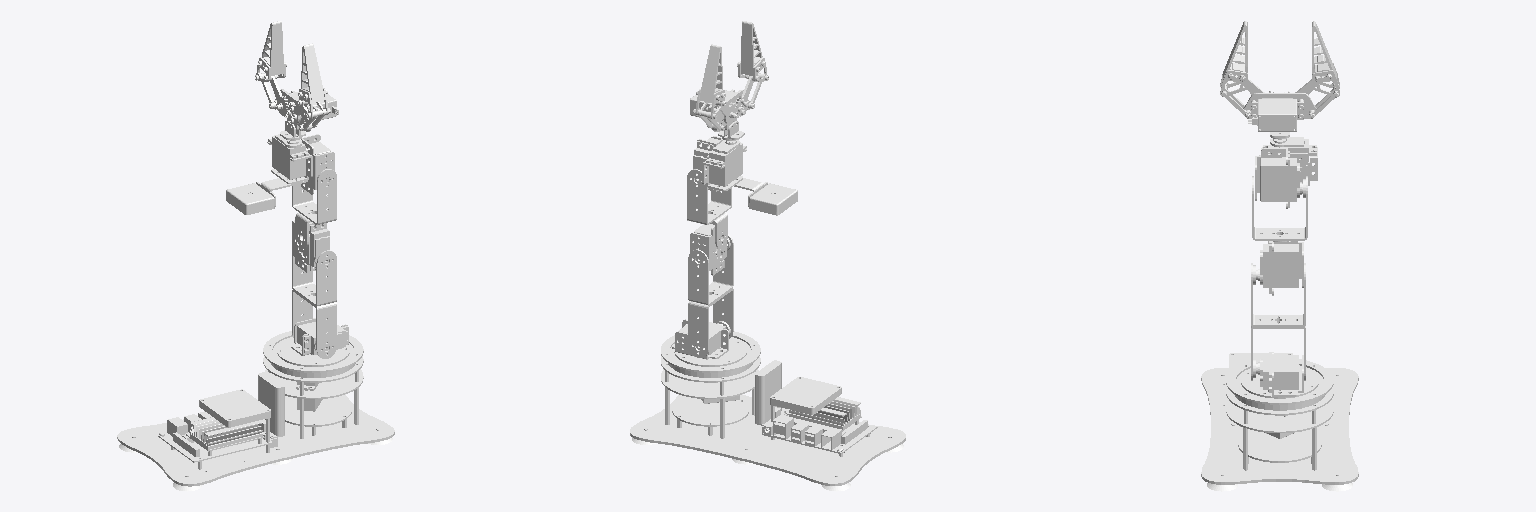
robot.urdf — table_streeing_arm:
<?xml version="1.0" encoding="utf-8" ?>
<!-- This URDF was automatically created by SolidWorks to URDF Exporter! Originally created by [author] ([email redacted]) 
     Commit Version: 1.6.0-1-g15f4949  Build Version: 1.6.7594.29634
     For more information, please see http://wiki.ros.org/sw_urdf_exporter -->
<robot name="table_streeing_arm">
    <link name="base_link">
        <inertial>
            <origin xyz="0.0097006 -0.0059776 0.025103" rpy="0 0 0" />
            <mass value="0.36024" />
            <inertia ixx="0.00067894" ixy="-7.1727E-05" ixz="-0.00020981" iyy="0.0019957" iyz="2.0787E-05" izz="0.0021275" />
        </inertial>
        <visual>
            <origin xyz="0 0 0" rpy="0 0 0" />
            <geometry>
                <mesh filename="package://table_streeing_arm/meshes/base_link.STL" />
            </geometry>
            <material name="">
                <color rgba="1 1 1 1" />
            </material>
        </visual>
        <collision>
            <origin xyz="0 0 0" rpy="0 0 0" />
            <geometry>
                <mesh filename="package://table_streeing_arm/meshes/base_link.STL" />
            </geometry>
        </collision>
    </link>
    <link name="link_1">
        <inertial>
            <origin xyz="0.0066789 0.00061793 0.0064455" rpy="0 0 0" />
            <mass value="0.05865" />
            <inertia ixx="2.1409E-05" ixy="-2.9508E-07" ixz="-2.7202E-06" iyy="2.3067E-05" iyz="-2.9756E-08" izz="2.9134E-05" />
        </inertial>
        <visual>
            <origin xyz="0 0 0" rpy="0 0 0" />
            <geometry>
                <mesh filename="package://table_streeing_arm/meshes/link_1.STL" />
            </geometry>
            <material name="">
                <color rgba="1 1 1 1" />
            </material>
        </visual>
        <collision>
            <origin xyz="0 0 0" rpy="0 0 0" />
            <geometry>
                <mesh filename="package://table_streeing_arm/meshes/link_1.STL" />
            </geometry>
        </collision>
    </link>
    <joint name="joint_1" type="revolute">
        <origin xyz="0.072548 -3.1954E-05 0.083" rpy="0 0 0" />
        <parent link="base_link" />
        <child link="link_1" />
        <axis xyz="0 0 -1" />
        <limit lower="-1.57" upper="1.57" effort="100" velocity="3" />
    </joint>
    <link name="link_2">
        <inertial>
            <origin xyz="4.0473E-16 0.024507 0.0525" rpy="0 0 0" />
            <mass value="0.018296" />
            <inertia ixx="3.0233E-05" ixy="1.4958E-20" ixz="-1.7717E-19" iyy="2.0571E-05" iyz="-1.1753E-19" izz="1.1505E-05" />
        </inertial>
        <visual>
            <origin xyz="0 0 0" rpy="0 0 0" />
            <geometry>
                <mesh filename="package://table_streeing_arm/meshes/link_2.STL" />
            </geometry>
            <material name="">
                <color rgba="1 1 1 1" />
            </material>
        </visual>
        <collision>
            <origin xyz="0 0 0" rpy="0 0 0" />
            <geometry>
                <mesh filename="package://table_streeing_arm/meshes/link_2.STL" />
            </geometry>
        </collision>
    </link>
    <joint name="joint_2" type="revolute">
        <origin xyz="0.0005 -0.0285 0.0145" rpy="0 0 0" />
        <parent link="link_1" />
        <child link="link_2" />
        <axis xyz="0 -1 0" />
        <limit lower="-1.57" upper="1.57" effort="100" velocity="3" />
    </joint>
    <link name="link_3">
        <inertial>
            <origin xyz="-0.001124 0.029687 0.022151" rpy="0 0 0" />
            <mass value="0.049761" />
            <inertia ixx="4.8731E-05" ixy="1.7297E-07" ixz="-7.7563E-07" iyy="4.0019E-05" iyz="-1.4349E-06" izz="1.3659E-05" />
        </inertial>
        <visual>
            <origin xyz="0 0 0" rpy="0 0 0" />
            <geometry>
                <mesh filename="package://table_streeing_arm/meshes/link_3.STL" />
            </geometry>
            <material name="">
                <color rgba="1 1 1 1" />
            </material>
        </visual>
        <collision>
            <origin xyz="0 0 0" rpy="0 0 0" />
            <geometry>
                <mesh filename="package://table_streeing_arm/meshes/link_3.STL" />
            </geometry>
        </collision>
    </link>
    <joint name="joint_3" type="revolute">
        <origin xyz="0 0 0.105" rpy="0 0 0" />
        <parent link="link_2" />
        <child link="link_3" />
        <axis xyz="0 -1 0" />
        <limit lower="-1.57" upper="1.57" effort="100" velocity="3" />
    </joint>
    <link name="link_4">
        <inertial>
            <origin xyz="-0.023971 0.030448 0.0096738" rpy="0 0 0" />
            <mass value="0.091895" />
            <inertia ixx="4.2063E-05" ixy="1.7444E-06" ixz="-1.9067E-05" iyy="9.3754E-05" iyz="-3.3549E-06" izz="8.5724E-05" />
        </inertial>
        <visual>
            <origin xyz="0 0 0" rpy="0 0 0" />
            <geometry>
                <mesh filename="package://table_streeing_arm/meshes/link_4.STL" />
            </geometry>
            <material name="">
                <color rgba="1 1 1 1" />
            </material>
        </visual>
        <collision>
            <origin xyz="0 0 0" rpy="0 0 0" />
            <geometry>
                <mesh filename="package://table_streeing_arm/meshes/link_4.STL" />
            </geometry>
        </collision>
    </link>
    <joint name="joint_4" type="revolute">
        <origin xyz="0.001 0.0015 0.0975" rpy="0 0 0" />
        <parent link="link_3" />
        <child link="link_4" />
        <axis xyz="0 -1 0" />
        <limit lower="-1.57" upper="1.0" effort="100" velocity="3" />
    </joint>
    <link name="link_5">
        <inertial>
            <origin xyz="0.017024 -0.0018442 0.03644" rpy="0 0 0" />
            <mass value="0.043121" />
            <inertia ixx="1.2402E-05" ixy="7.0394E-07" ixz="-1.6181E-06" iyy="1.1921E-05" iyz="1.7177E-07" izz="1.7218E-05" />
        </inertial>
        <visual>
            <origin xyz="0 0 0" rpy="0 0 0" />
            <geometry>
                <mesh filename="package://table_streeing_arm/meshes/link_5.STL" />
            </geometry>
            <material name="">
                <color rgba="1 1 1 1" />
            </material>
        </visual>
        <collision>
            <origin xyz="0 0 0" rpy="0 0 0" />
            <geometry>
                <mesh filename="package://table_streeing_arm/meshes/link_5.STL" />
            </geometry>
        </collision>
    </link>
    <joint name="joint_5" type="revolute">
        <origin xyz="-0.027 0.027 0.042" rpy="0 0 0" />
        <parent link="link_4" />
        <child link="link_5" />
        <axis xyz="0 0 -1" />
        <limit lower="-1.57" upper="1.57" effort="100" velocity="3" />
    </joint>
    <link name="link_6">
        <inertial>
            <origin xyz="0.0025 0.0056473 0.006408" rpy="0 0 0" />
            <mass value="0.001976" />
            <inertia ixx="3.9985E-07" ixy="-6.0525E-21" ixz="-8.2462E-21" iyy="1.9537E-07" iyz="-1.5175E-07" izz="2.0744E-07" />
        </inertial>
        <visual>
            <origin xyz="0 0 0" rpy="0 0 0" />
            <geometry>
                <mesh filename="package://table_streeing_arm/meshes/link_6.STL" />
            </geometry>
            <material name="">
                <color rgba="1 1 1 1" />
            </material>
        </visual>
        <collision>
            <origin xyz="0 0 0" rpy="0 0 0" />
            <geometry>
                <mesh filename="package://table_streeing_arm/meshes/link_6.STL" />
            </geometry>
        </collision>
    </link>
    <joint name="joint_6" type="revolute">
        <origin xyz="-0.0085 0.0125 0.0386" rpy="0 0 0" />
        <parent link="link_5" />
        <child link="link_6" />
        <axis xyz="-1 0 0" />
        <limit lower="-0.9" upper="0.9" effort="100" velocity="3" />
    </joint>
    <link name="link_10">
        <inertial>
            <origin xyz="0.011605 0.0059668 0.02039" rpy="0 0 0" />
            <mass value="0.0097376" />
            <inertia ixx="4.1487E-06" ixy="-1.9122E-08" ixz="-5.1925E-09" iyy="3.9123E-06" iyz="7.1057E-07" izz="1.0119E-06" />
        </inertial>
        <visual>
            <origin xyz="0 0 0" rpy="0 0 0" />
            <geometry>
                <mesh filename="package://table_streeing_arm/meshes/link_10.STL" />
            </geometry>
            <material name="">
                <color rgba="1 1 1 1" />
            </material>
        </visual>
        <collision>
            <origin xyz="0 0 0" rpy="0 0 0" />
            <geometry>
                <mesh filename="package://table_streeing_arm/meshes/link_10.STL" />
            </geometry>
        </collision>
    </link>
    <joint name="joint_10" type="revolute">
        <origin xyz="-0.0043 0.024471 0.025023" rpy="0 0 0" />
        <parent link="link_6" />
        <child link="link_10" />
        <axis xyz="-1 0 0" />
        <limit lower="-0.9" upper="0.9" effort="100" velocity="3" />
    </joint>
    <link name="link_7">
        <inertial>
            <origin xyz="0.00073507 -0.0036936 0.0043613" rpy="0 0 0" />
            <mass value="0.0029711" />
            <inertia ixx="4.9451E-07" ixy="-8.0667E-09" ixz="9.525E-09" iyy="2.6231E-07" iyz="1.738E-07" izz="2.5861E-07" />
        </inertial>
        <visual>
            <origin xyz="0 0 0" rpy="0 0 0" />
            <geometry>
                <mesh filename="package://table_streeing_arm/meshes/link_7.STL" />
            </geometry>
            <material name="">
                <color rgba="1 1 1 1" />
            </material>
        </visual>
        <collision>
            <origin xyz="0 0 0" rpy="0 0 0" />
            <geometry>
                <mesh filename="package://table_streeing_arm/meshes/link_7.STL" />
            </geometry>
        </collision>
    </link>
    <joint name="joint_7" type="revolute">
        <origin xyz="-0.006 -0.0125 0.0386" rpy="0 0 0" />
        <parent link="link_5" />
        <child link="link_7" />
        <axis xyz="1 0 0" />
        <limit lower="-0.9" upper="0.9" effort="100" velocity="3" />
    </joint>
    <link name="link_11">
        <inertial>
            <origin xyz="0.011605 -0.0064719 0.020479" rpy="0 0 0" />
            <mass value="0.0097376" />
            <inertia ixx="4.1448E-06" ixy="1.8986E-08" ixz="-5.1676E-09" iyy="3.9269E-06" iyz="-6.7081E-07" izz="9.935E-07" />
        </inertial>
        <visual>
            <origin xyz="0 0 0" rpy="0 0 0" />
            <geometry>
                <mesh filename="package://table_streeing_arm/meshes/link_11.STL" />
            </geometry>
            <material name="">
                <color rgba="1 1 1 1" />
            </material>
        </visual>
        <collision>
            <origin xyz="0 0 0" rpy="0 0 0" />
            <geometry>
                <mesh filename="package://table_streeing_arm/meshes/link_11.STL" />
            </geometry>
        </collision>
    </link>
    <joint name="joint_11" type="revolute">
        <origin xyz="-0.0068 -0.024099 0.025382" rpy="0 0 0" />
        <parent link="link_7" />
        <child link="link_11" />
        <axis xyz="-1 0 0" />
        <limit lower="-0.9" upper="0.9" effort="100" velocity="3" />
    </joint>
    <link name="link_8">
        <inertial>
            <origin xyz="0.0083 0.012951 0.011812" rpy="0 0 0" />
            <mass value="0.0010878" />
            <inertia ixx="1.7192E-07" ixy="-2.6483E-16" ixz="-2.7081E-16" iyy="1.2153E-07" iyz="-8.3002E-08" izz="1.1783E-07" />
        </inertial>
        <visual>
            <origin xyz="0 0 0" rpy="0 0 0" />
            <geometry>
                <mesh filename="package://table_streeing_arm/meshes/link_8.STL" />
            </geometry>
            <material name="">
                <color rgba="1 1 1 1" />
            </material>
        </visual>
        <collision>
            <origin xyz="0 0 0" rpy="0 0 0" />
            <geometry>
                <mesh filename="package://table_streeing_arm/meshes/link_8.STL" />
            </geometry>
        </collision>
    </link>
    <joint name="joint_8" type="revolute">
        <origin xyz="-0.0088 0.032703 0.031247" rpy="0 0 0" />
        <parent link="link_5" />
        <child link="link_8" />
        <axis xyz="-1 0 0" />
        <limit lower="-0.9" upper="0.9" effort="100" velocity="3" />
    </joint>
    <link name="link_9">
        <inertial>
            <origin xyz="0.0083 -0.012775 0.012002" rpy="0 0 0" />
            <mass value="0.0010878" />
            <inertia ixx="1.7192E-07" ixy="1.5085E-21" ixz="-6.9214E-21" iyy="1.2398E-07" iyz="8.2911E-08" izz="1.1538E-07" />
        </inertial>
        <visual>
            <origin xyz="0 0 0" rpy="0 0 0" />
            <geometry>
                <mesh filename="package://table_streeing_arm/meshes/link_9.STL" />
            </geometry>
            <material name="">
                <color rgba="1 1 1 1" />
            </material>
        </visual>
        <collision>
            <origin xyz="0 0 0" rpy="0 0 0" />
            <geometry>
                <mesh filename="package://table_streeing_arm/meshes/link_9.STL" />
            </geometry>
        </collision>
    </link>
    <joint name="joint_9" type="revolute">
        <origin xyz="-0.0088 -0.032703 0.031247" rpy="0 0 0" />
        <parent link="link_5" />
        <child link="link_9" />
        <axis xyz="-1 0 0" />
        <limit lower="-0.9" upper="0.9" effort="100" velocity="3" />
    </joint>
    <transmission name="trans_joint_1">
        <type>transmission_interface/SimpleTransmission</type>
        <joint name="joint_1">
            <hardwareInterface>hardware_interface/EffortJointInterface</hardwareInterface>
        </joint>
        <actuator name="joint_1_motor">
            <hardwareInterface>hardware_interface/EffortJointInterface</hardwareInterface>
            <mechanicalReduction>1</mechanicalReduction>
        </actuator>
    </transmission>
    <transmission name="trans_joint_2">
        <type>transmission_interface/SimpleTransmission</type>
        <joint name="joint_2">
            <hardwareInterface>hardware_interface/EffortJointInterface</hardwareInterface>
        </joint>
        <actuator name="joint_2_motor">
            <hardwareInterface>hardware_interface/EffortJointInterface</hardwareInterface>
            <mechanicalReduction>1</mechanicalReduction>
        </actuator>
    </transmission>
    <transmission name="trans_joint_3">
        <type>transmission_interface/SimpleTransmission</type>
        <joint name="joint_3">
            <hardwareInterface>hardware_interface/EffortJointInterface</hardwareInterface>
        </joint>
        <actuator name="joint_3_motor">
            <hardwareInterface>hardware_interface/EffortJointInterface</hardwareInterface>
            <mechanicalReduction>1</mechanicalReduction>
        </actuator>
    </transmission>
    <transmission name="trans_joint_4">
        <type>transmission_interface/SimpleTransmission</type>
        <joint name="joint_4">
            <hardwareInterface>hardware_interface/EffortJointInterface</hardwareInterface>
        </joint>
        <actuator name="joint_4_motor">
            <hardwareInterface>hardware_interface/EffortJointInterface</hardwareInterface>
            <mechanicalReduction>1</mechanicalReduction>
        </actuator>
    </transmission>
    <transmission name="trans_joint_5">
        <type>transmission_interface/SimpleTransmission</type>
        <joint name="joint_5">
            <hardwareInterface>hardware_interface/EffortJointInterface</hardwareInterface>
        </joint>
        <actuator name="joint_5_motor">
            <hardwareInterface>hardware_interface/EffortJointInterface</hardwareInterface>
            <mechanicalReduction>1</mechanicalReduction>
        </actuator>
    </transmission>
    <transmission name="trans_joint_6">
        <type>transmission_interface/SimpleTransmission</type>
        <joint name="joint_6">
            <hardwareInterface>hardware_interface/EffortJointInterface</hardwareInterface>
        </joint>
        <actuator name="joint_6_motor">
            <hardwareInterface>hardware_interface/EffortJointInterface</hardwareInterface>
            <mechanicalReduction>1</mechanicalReduction>
        </actuator>
    </transmission>
    <transmission name="trans_joint_10">
        <type>transmission_interface/SimpleTransmission</type>
        <joint name="joint_10">
            <hardwareInterface>hardware_interface/EffortJointInterface</hardwareInterface>
        </joint>
        <actuator name="joint_10_motor">
            <hardwareInterface>hardware_interface/EffortJointInterface</hardwareInterface>
            <mechanicalReduction>1</mechanicalReduction>
        </actuator>
    </transmission>
    <transmission name="trans_joint_7">
        <type>transmission_interface/SimpleTransmission</type>
        <joint name="joint_7">
            <hardwareInterface>hardware_interface/EffortJointInterface</hardwareInterface>
        </joint>
        <actuator name="joint_7_motor">
            <hardwareInterface>hardware_interface/EffortJointInterface</hardwareInterface>
            <mechanicalReduction>1</mechanicalReduction>
        </actuator>
    </transmission>
    <transmission name="trans_joint_11">
        <type>transmission_interface/SimpleTransmission</type>
        <joint name="joint_11">
            <hardwareInterface>hardware_interface/EffortJointInterface</hardwareInterface>
        </joint>
        <actuator name="joint_11_motor">
            <hardwareInterface>hardware_interface/EffortJointInterface</hardwareInterface>
            <mechanicalReduction>1</mechanicalReduction>
        </actuator>
    </transmission>
    <transmission name="trans_joint_8">
        <type>transmission_interface/SimpleTransmission</type>
        <joint name="joint_8">
            <hardwareInterface>hardware_interface/EffortJointInterface</hardwareInterface>
        </joint>
        <actuator name="joint_8_motor">
            <hardwareInterface>hardware_interface/EffortJointInterface</hardwareInterface>
            <mechanicalReduction>1</mechanicalReduction>
        </actuator>
    </transmission>
    <transmission name="trans_joint_9">
        <type>transmission_interface/SimpleTransmission</type>
        <joint name="joint_9">
            <hardwareInterface>hardware_interface/EffortJointInterface</hardwareInterface>
        </joint>
        <actuator name="joint_9_motor">
            <hardwareInterface>hardware_interface/EffortJointInterface</hardwareInterface>
            <mechanicalReduction>1</mechanicalReduction>
        </actuator>
    </transmission>
    <gazebo>
        <plugin name="gazebo_ros_control">
            <robotNamespace>/</robotNamespace>
        </plugin>
    </gazebo>
</robot>

--- Render facts (derived) ---
3 views of the same robot in one strip: view 1: azimuth 30°, elevation 25°; view 2: azimuth 150°, elevation 25°; view 3: azimuth 270°, elevation 25° (orthographic).
Model table_streeing_arm with 12 links and 11 joints (11 revolute), rooted at base_link, posed all joints at 0.
Visible links, largest first — view 1: base_link, link_4, link_2, link_3, link_1, link_11, link_10, link_5; view 2: base_link, link_4, link_2, link_3, link_1, link_10, link_11, link_5; view 3: base_link, link_4, link_3, link_1, link_5, link_2, link_11, link_10.
Boxes of the visible links, x1,y1,x2,y2 form: base_link: (117,331,394,491); link_4: (226,134,334,214); link_2: (292,250,336,358); link_3: (292,169,336,272); link_1: (277,318,349,366); link_11: (297,43,330,118); link_10: (255,21,286,81); link_5: (269,89,338,140); base_link: (630,331,905,491); link_4: (693,136,797,215); link_2: (688,234,733,357); link_3: (687,169,731,275); link_1: (672,319,746,366); link_10: (693,44,725,119); link_11: (737,21,768,81); link_5: (690,89,754,140); base_link: (1201,353,1358,491); link_4: (1255,137,1317,208); link_3: (1252,176,1307,295); link_1: (1241,352,1318,398); link_5: (1243,93,1316,139); link_2: (1251,263,1305,380); link_11: (1220,21,1247,96); link_10: (1312,21,1339,97).
Size in the robot's own frame: 0.275 by 0.16 by 0.4838 metres.
12 mesh visuals loaded from 12 distinct referenced files (12 binary STL).